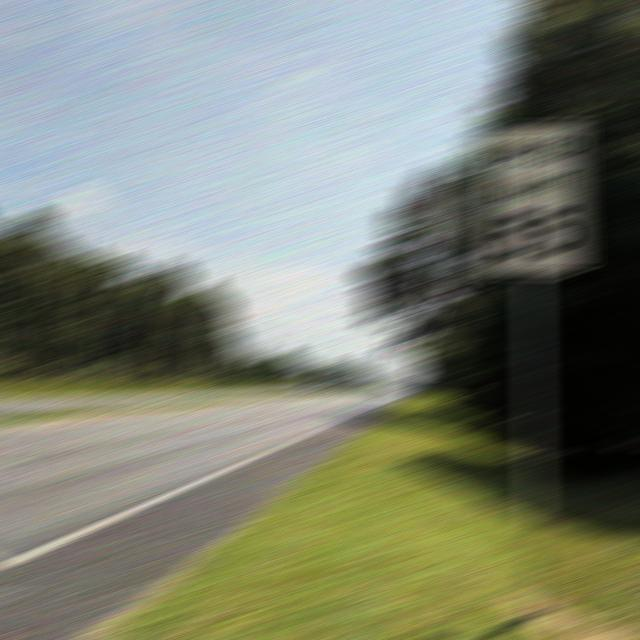speedLimit55: (486, 116, 590, 280)
